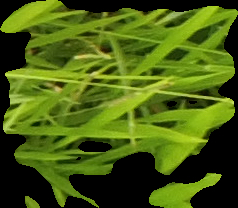grass: (1, 1, 237, 207)
